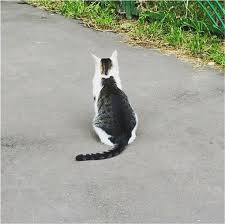cat: (84, 47, 146, 168)
